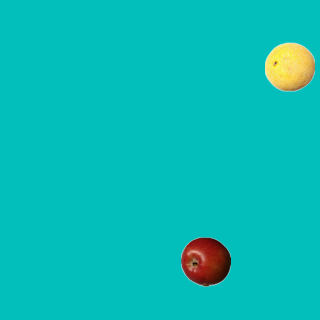Apple Braeburn: (180, 236, 230, 286)
Cantaloupe 1: (264, 41, 314, 91)
